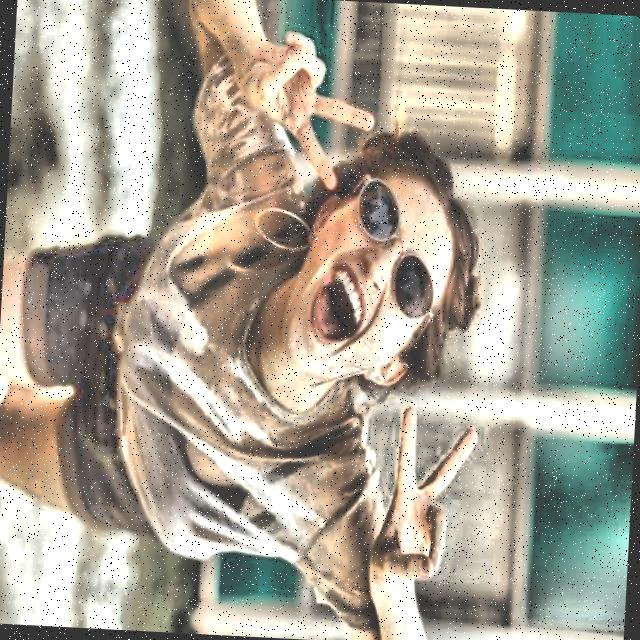happy: (275, 102, 505, 436)
